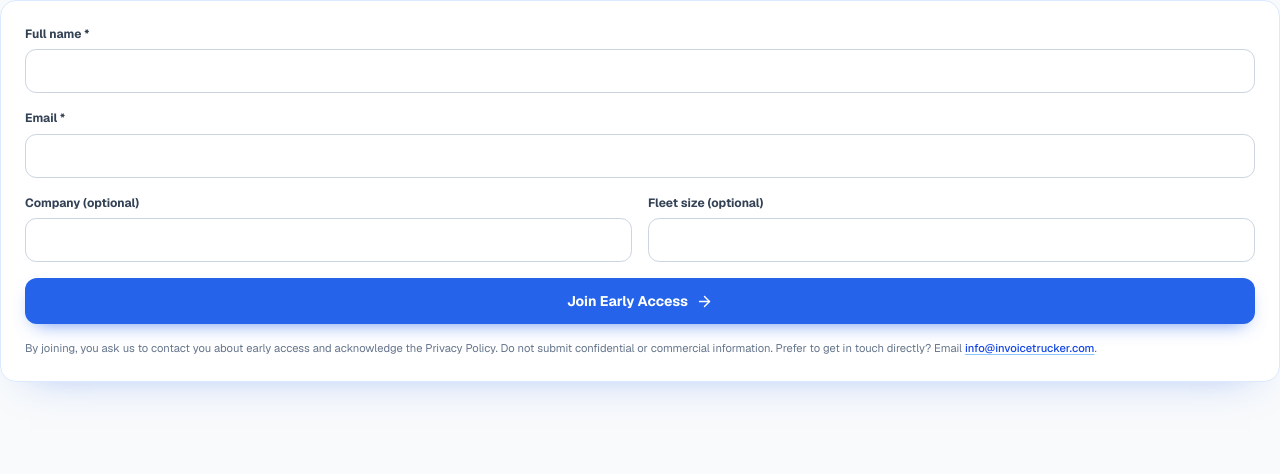
it: NewsletterForm › submits optional fields to the real API contract and announces success
Type "Avery Demo" into the field labelled "Full name *". click: (640, 71)
box: left=25, top=49, right=1255, bottom=93
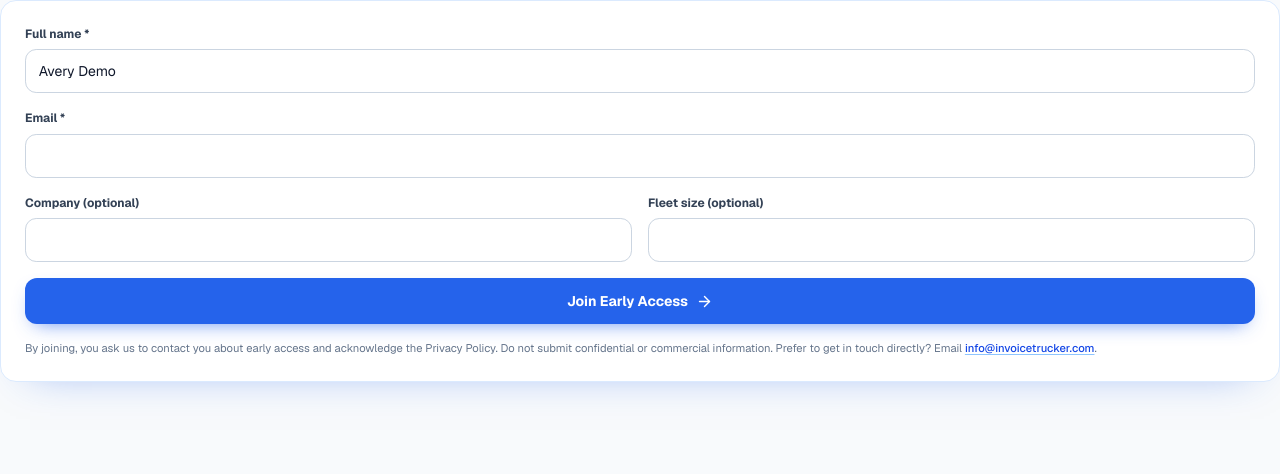
Type "avery@invoicetrucker.example" into the field labelled "Email *". click: (640, 156)
box: left=25, top=134, right=1255, bottom=178
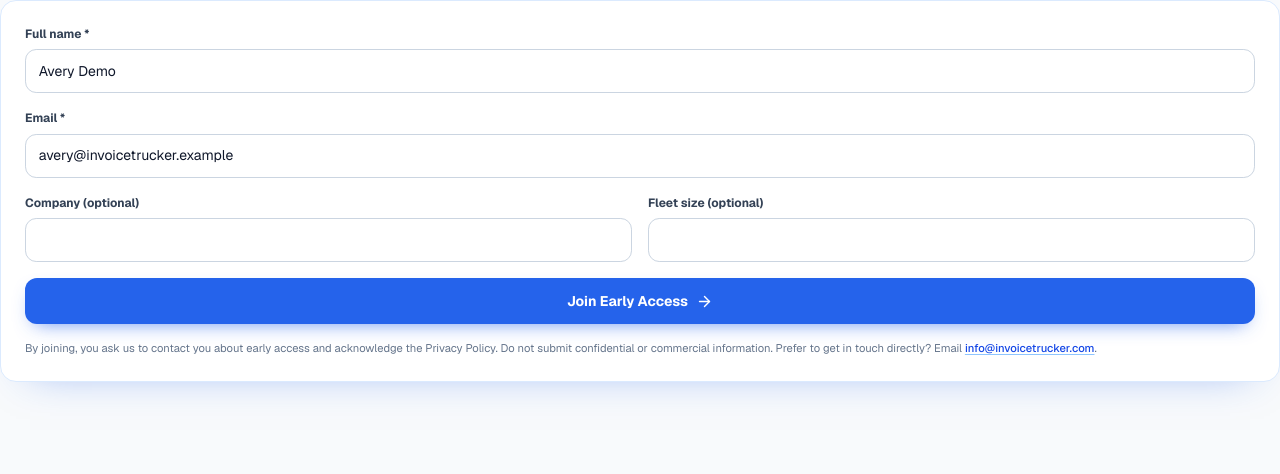
Type "Demo Transport Studio" into the field labelled "Company (optional)". click: (328, 240)
box: left=25, top=218, right=632, bottom=262
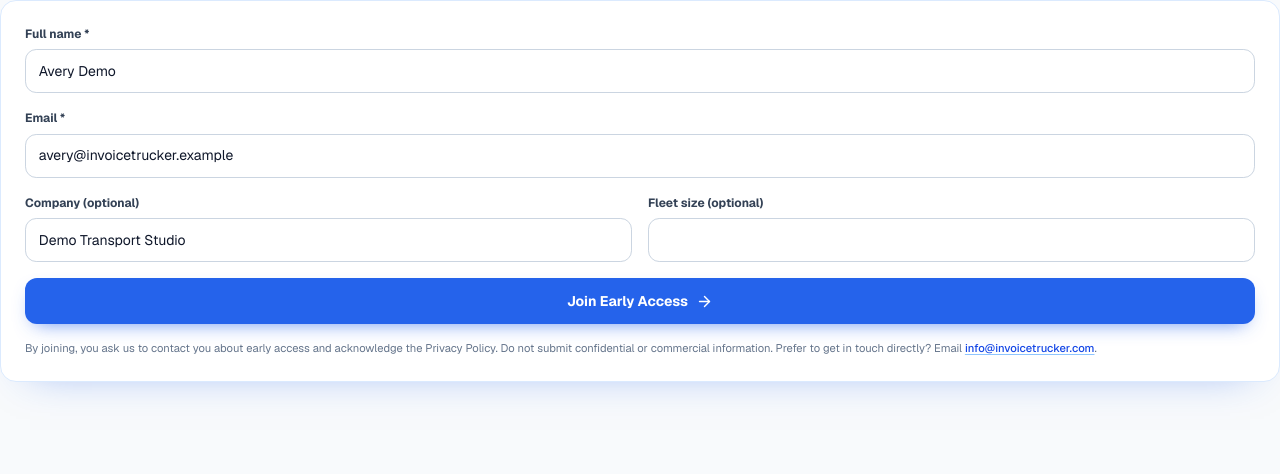
Type "8" into the number field labelled "Fleet size (optional)". click: (952, 240)
box: left=648, top=218, right=1255, bottom=262
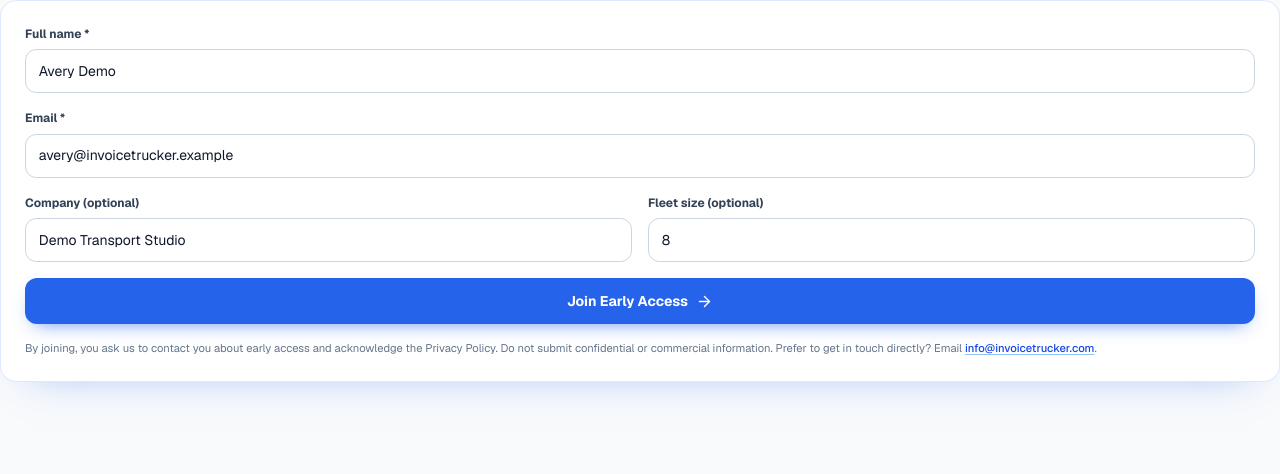
Click the button "Join Early Access". click: (640, 301)
box: left=25, top=278, right=1255, bottom=324
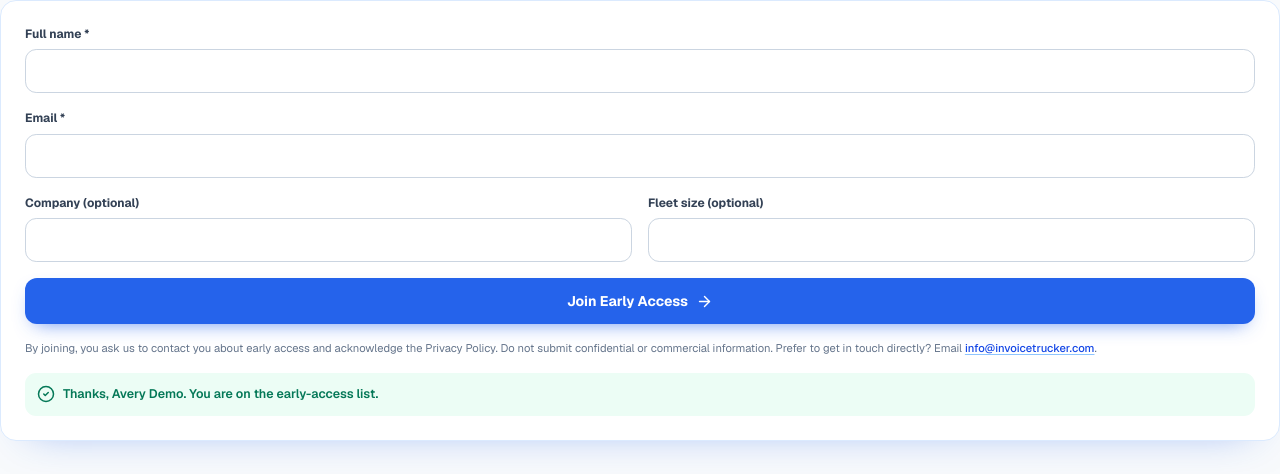
Check: the message shows "Thanks, Avery Demo", box left=63, top=385, right=378, bottom=402
